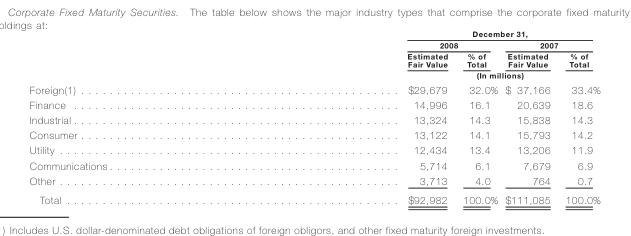table: (28, 28, 599, 204)
table column: (28, 28, 259, 204), (259, 28, 454, 204), (501, 28, 557, 204), (454, 28, 501, 204), (557, 28, 599, 204)
table column header: (28, 28, 599, 81)
table row: (28, 50, 599, 69), (28, 172, 599, 189), (28, 96, 599, 112), (28, 81, 599, 96), (28, 112, 599, 127), (28, 127, 599, 142), (28, 142, 599, 157), (28, 157, 599, 172), (28, 189, 599, 204), (28, 38, 599, 50), (28, 69, 599, 81), (28, 28, 599, 38)
table spanning cell: (259, 69, 599, 81), (259, 28, 599, 38), (259, 38, 501, 50), (501, 38, 599, 50)
